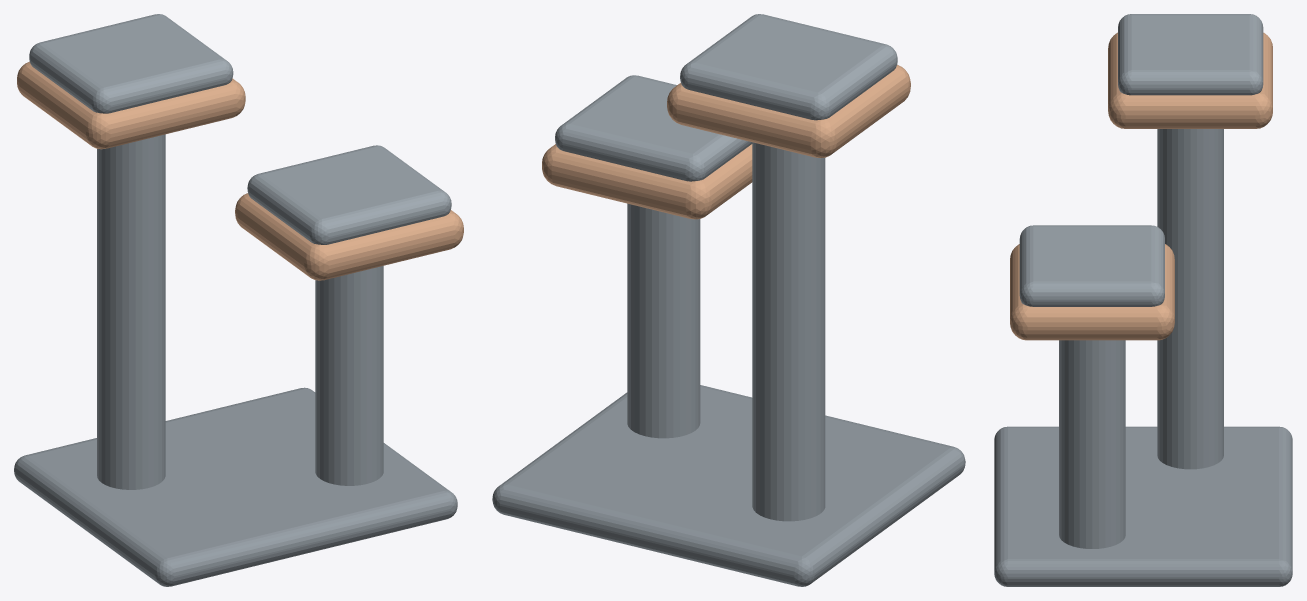
File: cat_tree.glb
The picture shows the model from 3 angles, left to right: view 1: azimuth 30°, elevation 25°; view 2: azimuth 150°, elevation 25°; view 3: azimuth 270°, elevation 25°; orthographic projection. The views are drawn at different scales.
Parts seen in each view (by area): view 1: shell_001, column_002, column_005, shell_004, shell_007, shell_003, shell_006; view 2: shell_001, column_002, column_005, shell_004, shell_007, shell_003, shell_006; view 3: shell_001, column_002, column_005, shell_007, shell_004, shell_006, shell_003.
Part boxes in pixels (x1,y1,x2,y2): shell_001: (14,387,457,586); column_002: (97,134,165,489); column_005: (315,266,383,485); shell_004: (29,14,233,113); shell_007: (247,145,451,244); shell_003: (17,61,245,149); shell_006: (235,193,463,280); shell_001: (492,385,965,586); column_002: (752,142,825,521); column_005: (627,203,700,438); shell_004: (680,14,897,120); shell_007: (555,75,752,181); shell_003: (667,65,910,158); shell_006: (542,144,752,219); shell_001: (994,426,1292,586); column_002: (1157,129,1223,469); column_005: (1059,340,1125,548); shell_007: (1019,225,1164,306); shell_004: (1118,14,1263,95); shell_006: (1010,244,1174,340); shell_003: (1108,32,1272,128).
Bounding box in the file's own units: 0.93 × 1.23 × 0.76.
